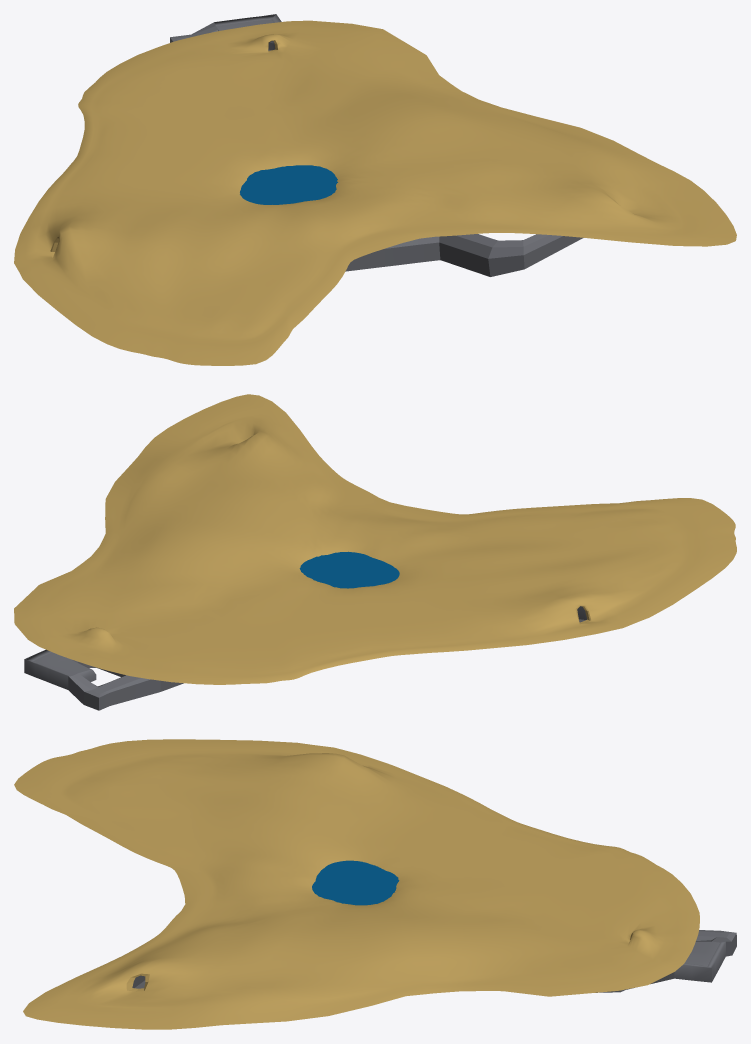
Rendered from map_v03.fbx.
3 renders of one model, top to bottom at view 1: azimuth 30°, elevation 25°; view 2: azimuth 150°, elevation 25°; view 3: azimuth 270°, elevation 25°, orthographic. The views are drawn at different scales.
Visible parts, largest first — view 1: beach, cave_paths, oasisPond; view 2: beach, cave_paths, oasisPond; view 3: beach, oasisPond, cave_paths.
Boxes of the visible parts, x1,y1,x2,y2 form: beach: (14,20,736,365); cave_paths: (170,14,583,276); oasisPond: (240,165,337,204); beach: (14,394,736,684); cave_paths: (24,606,587,710); oasisPond: (299,551,399,588); beach: (14,739,699,1029); oasisPond: (312,860,399,905); cave_paths: (132,930,736,992).
Size of what is drawn, in the model's own units: 54.12 by 5.89 by 56.93.
